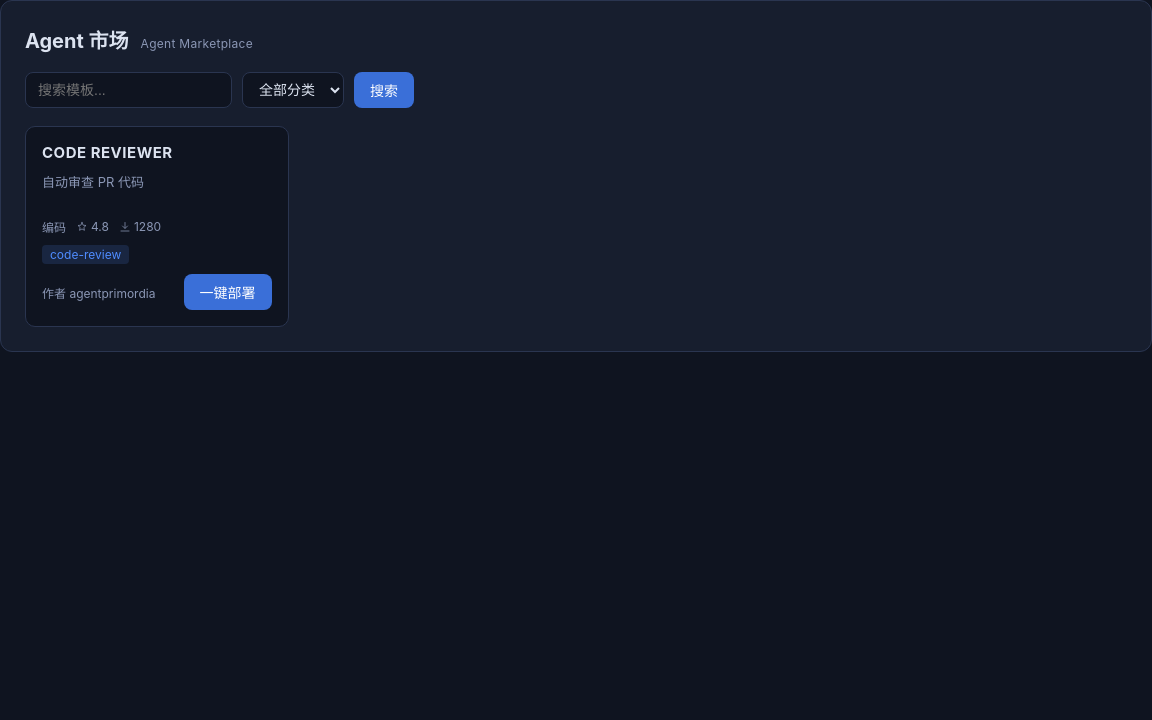
Test: Marketplace 加固 › 部署需两步确认，确认后展示部署状态面板
Click the button "一键部署". click: [228, 292]
box: [184,274,272,310]
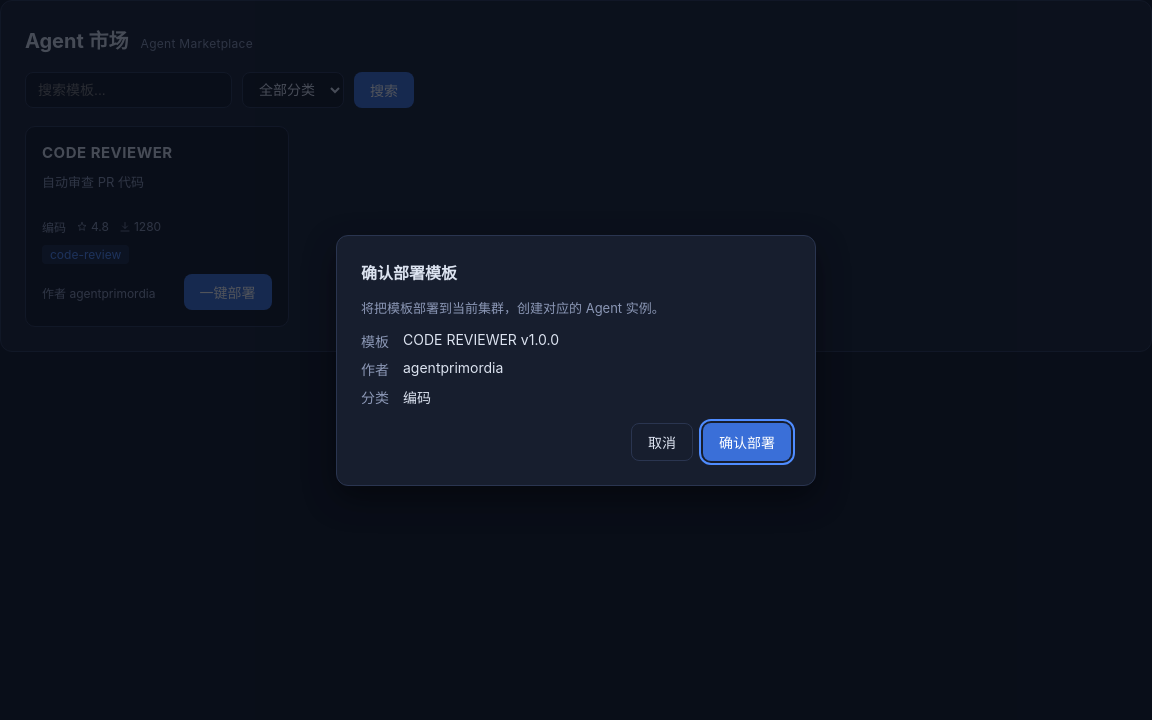
Expected: the dialog is shown, [336,234,816,486]
Click the button "确认部署". click: [747, 442]
box: [703,422,791,460]
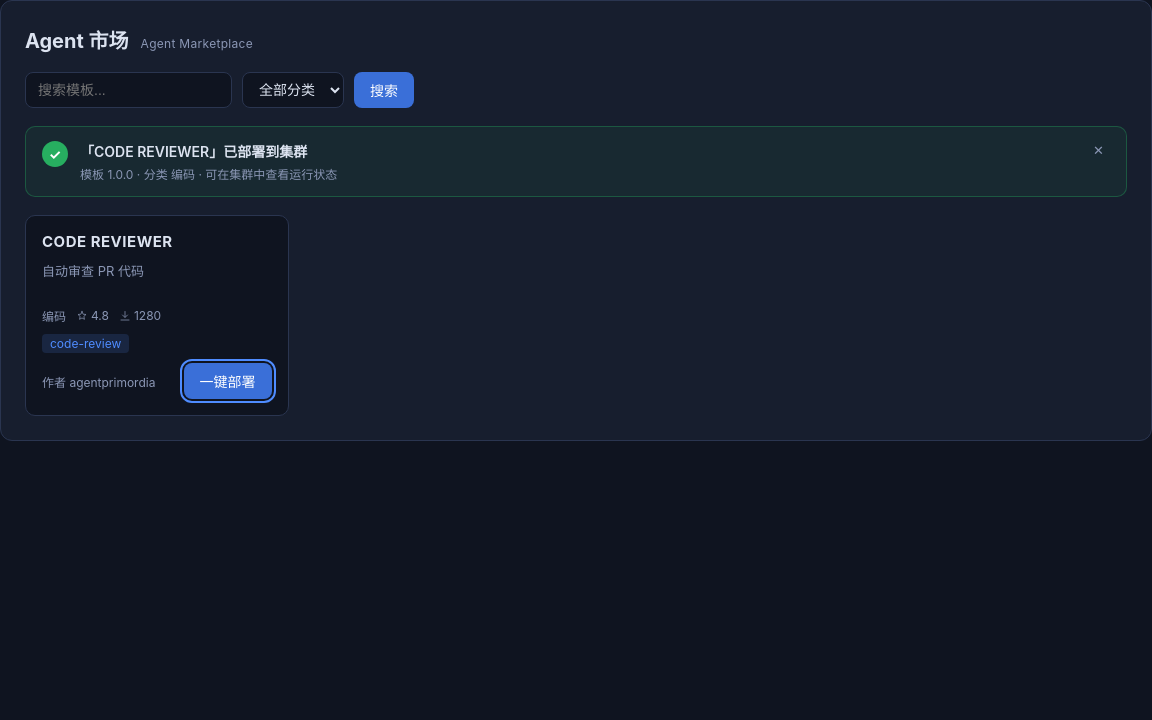
Expected: the text "「CODE REVIEWER」已部署到集群" is shown, [80,143,307,160]
